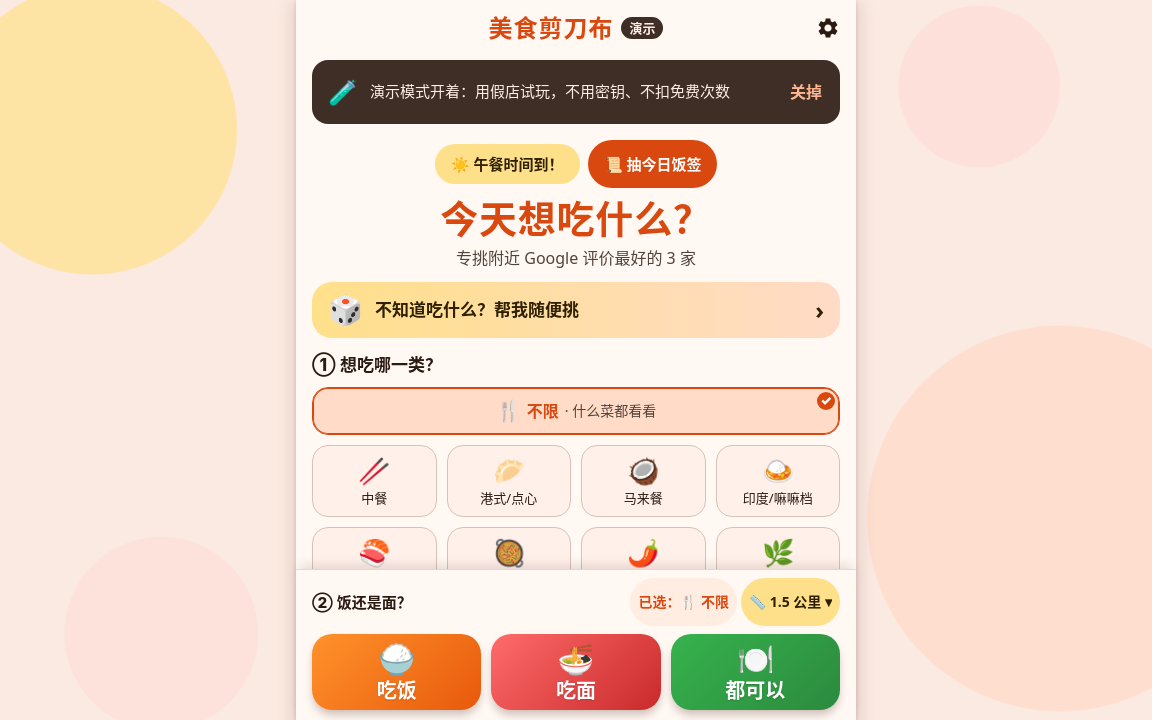
it: 🎲 帮你随便挑（功能清单第五节） › PICK 打开那一刻就决定好；减少动画时卷轴直接停在结果，「就它了」「再摇一次」可以按
Click the button "🎲 不知道吃什么？ 帮我随便挑 ›".
click(576, 310)  # box [312, 282, 840, 338]
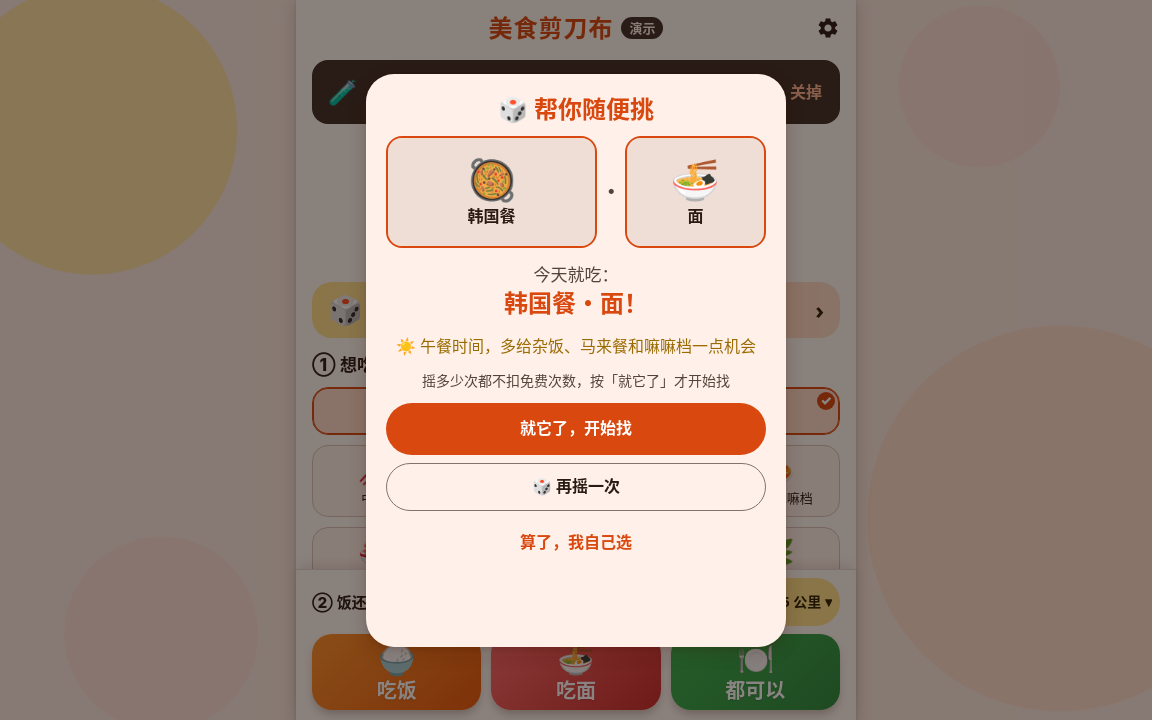
Now the text "今天就吃：" is shown, box [534, 262, 618, 286]
Now the button "就它了，开始找" is enabled, box [386, 402, 766, 454]
Now the button "🎲 再摇一次" is enabled, box [386, 462, 766, 510]
